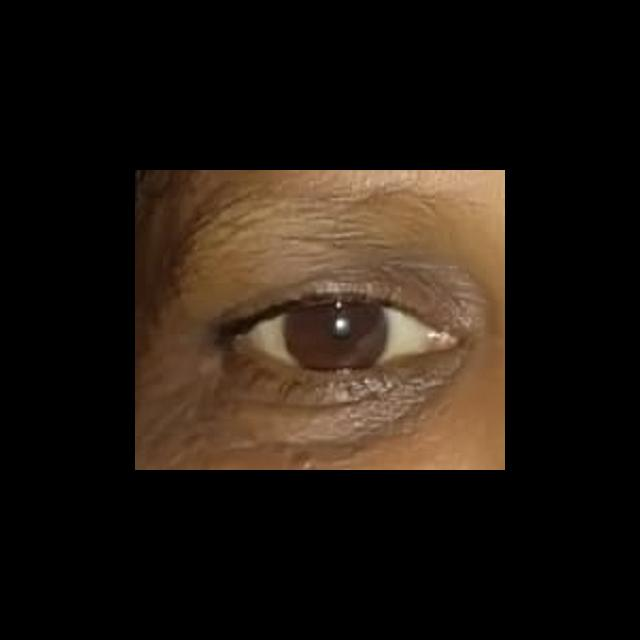eye: (248, 302, 427, 371)
iris: (285, 303, 387, 371)
